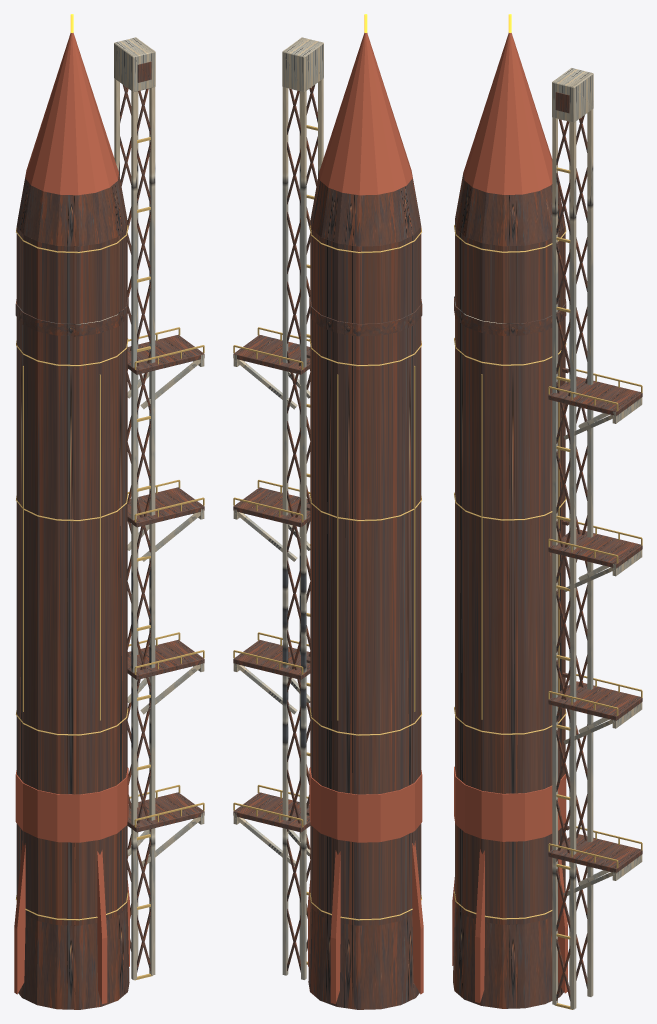
Rendered from rocket.glb.
3 renders of one model, left to right at view 1: azimuth 30°, elevation 25°; view 2: azimuth 150°, elevation 25°; view 3: azimuth 330°, elevation 25°, orthographic.
Visible parts, largest first — view 1: RocketStage, Nose, EngineSkirt, RedBand, NoseBase, MastChord.12.6.2.6, MastChord.9.4.2.6, MastHead, UmbilicalArm.4, UmbilicalArm.2, UmbilicalArm.3, UmbilicalArm.1 (+7 smaller); view 2: RocketStage, Nose, EngineSkirt, RedBand, NoseBase, MastChord.12.6.-2.6, MastChord.9.4.-2.6, MastHead, UmbilicalArm.4, UmbilicalArm.2, UmbilicalArm.3, UmbilicalArm.1 (+7 smaller); view 3: RocketStage, Nose, EngineSkirt, MastChord.12.6.2.6, MastChord.12.6.-2.6, RedBand, NoseBase, MastChord.9.4.2.6, UmbilicalArm.4, UmbilicalArm.2, UmbilicalArm.1, UmbilicalArm.3 (+6 smaller).
Part boxes in pixels (x1,y1,x2,y2): RocketStage: [16, 220, 127, 925]; Nose: [25, 33, 118, 195]; EngineSkirt: [18, 900, 129, 1009]; RedBand: [15, 767, 128, 842]; NoseBase: [17, 173, 127, 246]; MastChord.12.6.2.6: [149, 50, 155, 975]; MastChord.9.4.2.6: [131, 55, 136, 979]; MastHead: [114, 37, 155, 92]; UmbilicalArm.4: [127, 334, 204, 374]; UmbilicalArm.2: [127, 639, 204, 679]; UmbilicalArm.3: [127, 487, 204, 527]; UmbilicalArm.1: [127, 792, 204, 832]; RocketStage: [310, 220, 421, 925]; Nose: [319, 33, 412, 195]; EngineSkirt: [308, 900, 419, 1009]; RedBand: [309, 767, 422, 842]; NoseBase: [310, 173, 420, 246]; MastChord.12.6.-2.6: [282, 50, 288, 975]; MastChord.9.4.-2.6: [301, 55, 306, 979]; MastHead: [282, 37, 323, 92]; UmbilicalArm.4: [233, 334, 310, 374]; UmbilicalArm.2: [233, 639, 310, 679]; UmbilicalArm.3: [233, 487, 310, 527]; UmbilicalArm.1: [233, 792, 310, 832]; RocketStage: [455, 222, 565, 924]; Nose: [463, 33, 552, 194]; EngineSkirt: [453, 898, 563, 1008]; MastChord.12.6.2.6: [570, 86, 576, 1009]; MastChord.12.6.-2.6: [587, 73, 593, 996]; RedBand: [454, 766, 566, 841]; NoseBase: [455, 173, 565, 246]; MastChord.9.4.2.6: [552, 82, 557, 1005]; UmbilicalArm.4: [548, 376, 642, 415]; UmbilicalArm.2: [548, 681, 642, 720]; UmbilicalArm.1: [548, 834, 642, 873]; UmbilicalArm.3: [548, 529, 642, 568].
Size of what is drawn, in the model's own units: 30.99 by 163 by 19.8.
Materials: 7 (4 with a texture image).
